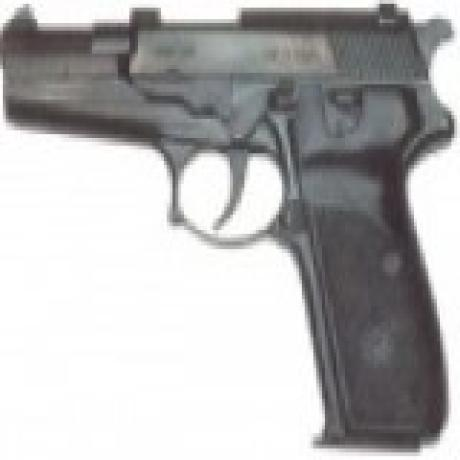weapon: (0, 10, 451, 448)
